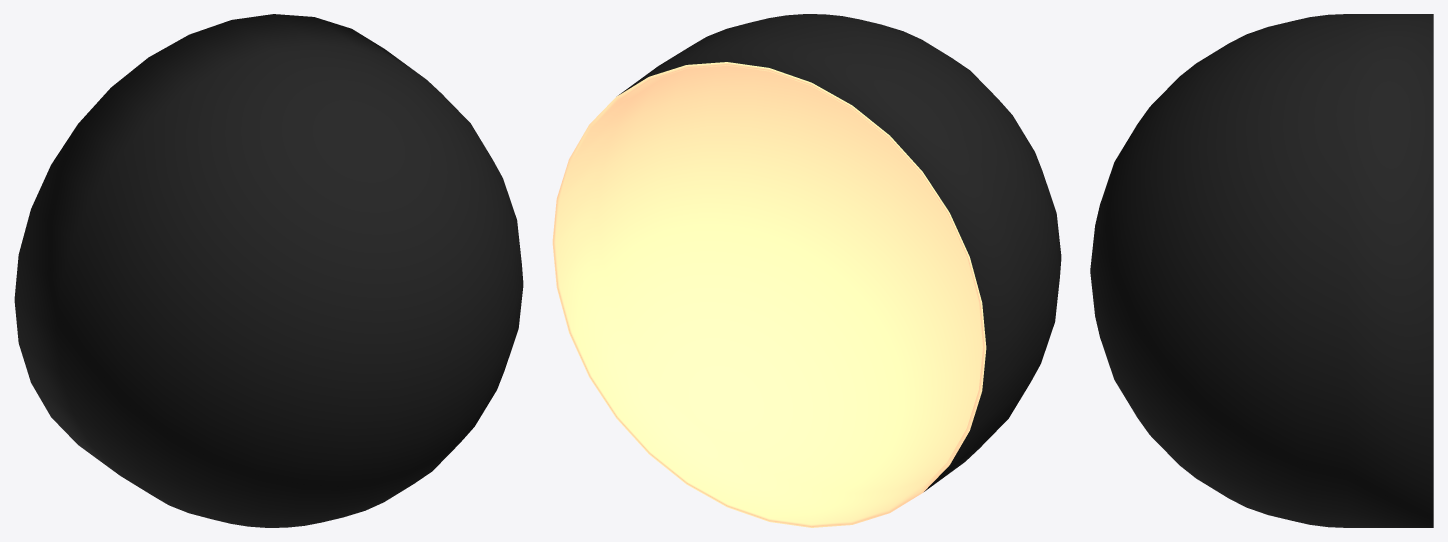
Rendered from lighthouse_reflector.glb.
The picture shows the model from 3 angles, left to right: view 1: azimuth 30°, elevation 25°; view 2: azimuth 150°, elevation 25°; view 3: azimuth 270°, elevation 25°; orthographic projection. The views are drawn at different scales.
Visible parts, largest first — view 1: Lighthouse_reflector; view 2: Lighthouse_reflector; view 3: Lighthouse_reflector.
Boxes of the visible parts, x1,y1,x2,y2 form: Lighthouse_reflector: (14,14,523,527); Lighthouse_reflector: (552,14,1061,527); Lighthouse_reflector: (1090,14,1433,527).
Bounding box in the file's own units: 1.25 × 1.25 × 0.8342.
